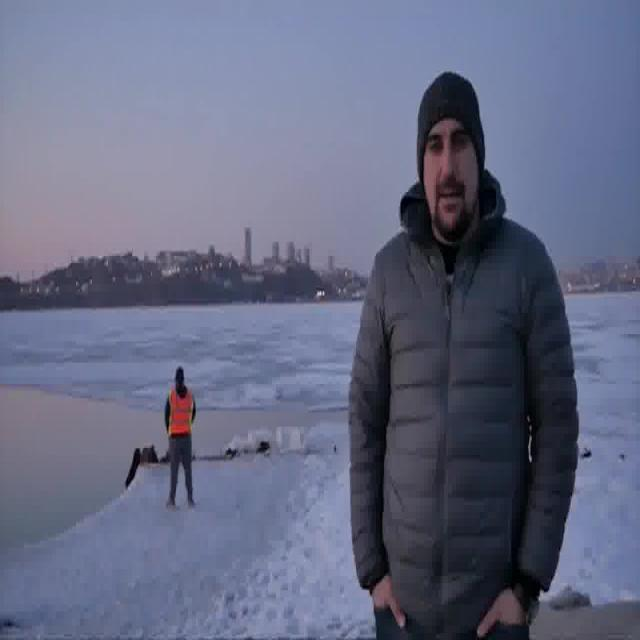class10: (353, 259, 581, 640)
class18: (403, 76, 501, 249)
class9: (166, 356, 189, 386), (172, 361, 189, 384)
glove: (166, 387, 196, 439)
shoes: (341, 57, 577, 640), (157, 352, 211, 528)
